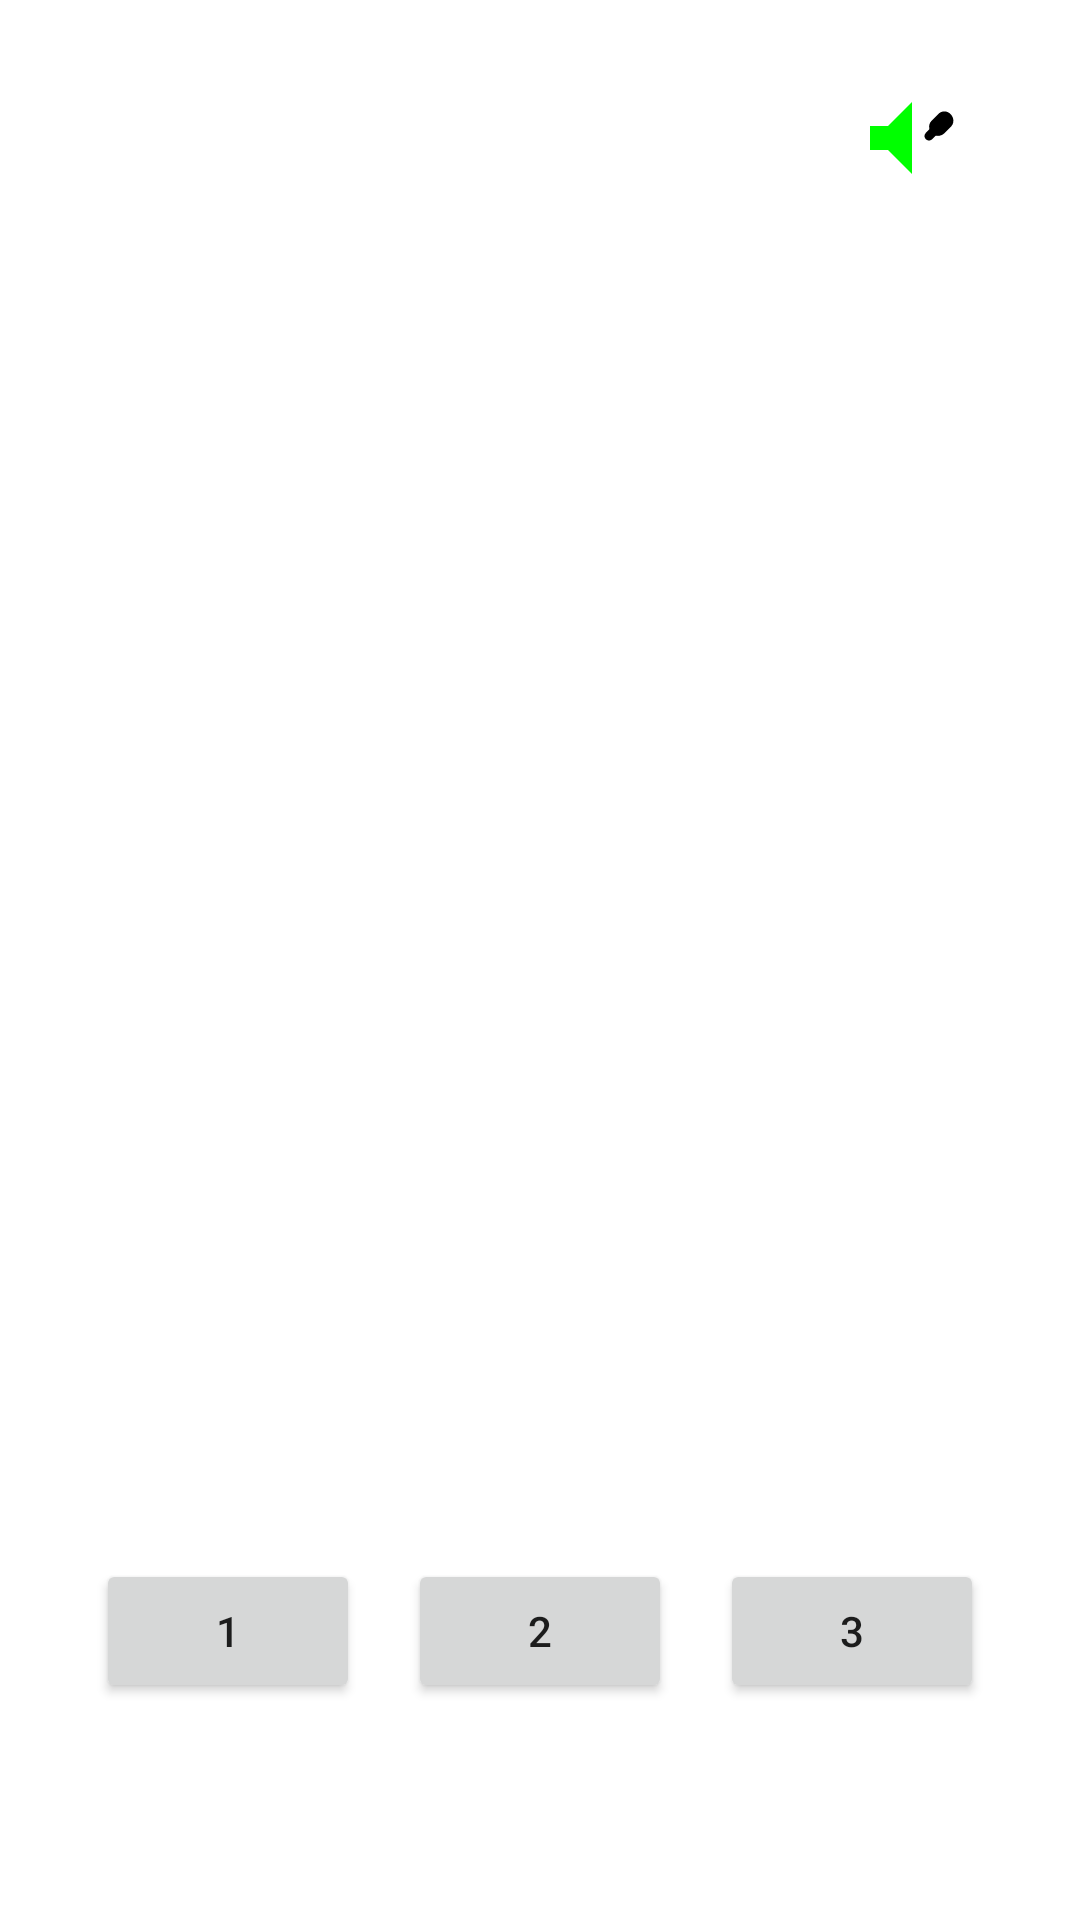

Named icons in this screenshot (1080x1920) and their centers, [x,y]:
volume up: [912,138]
